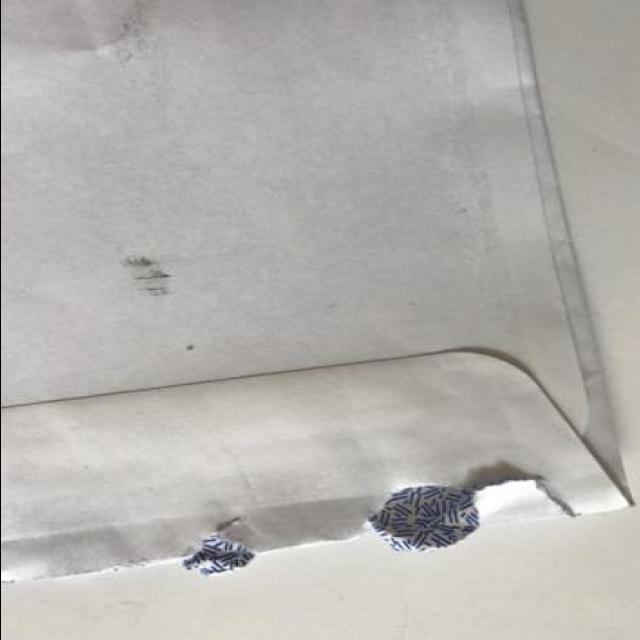kertas: (0, 0, 638, 587)
